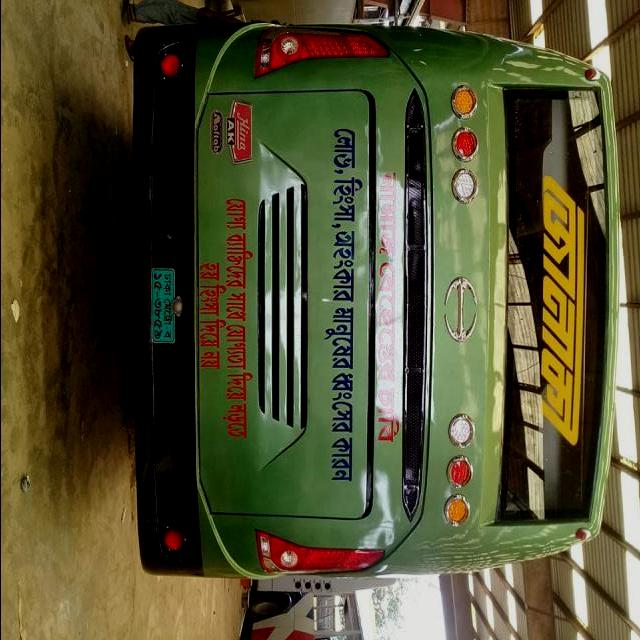bus: (131, 20, 622, 583)
